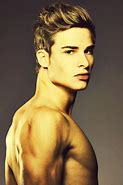person: (31, 4, 95, 94)
